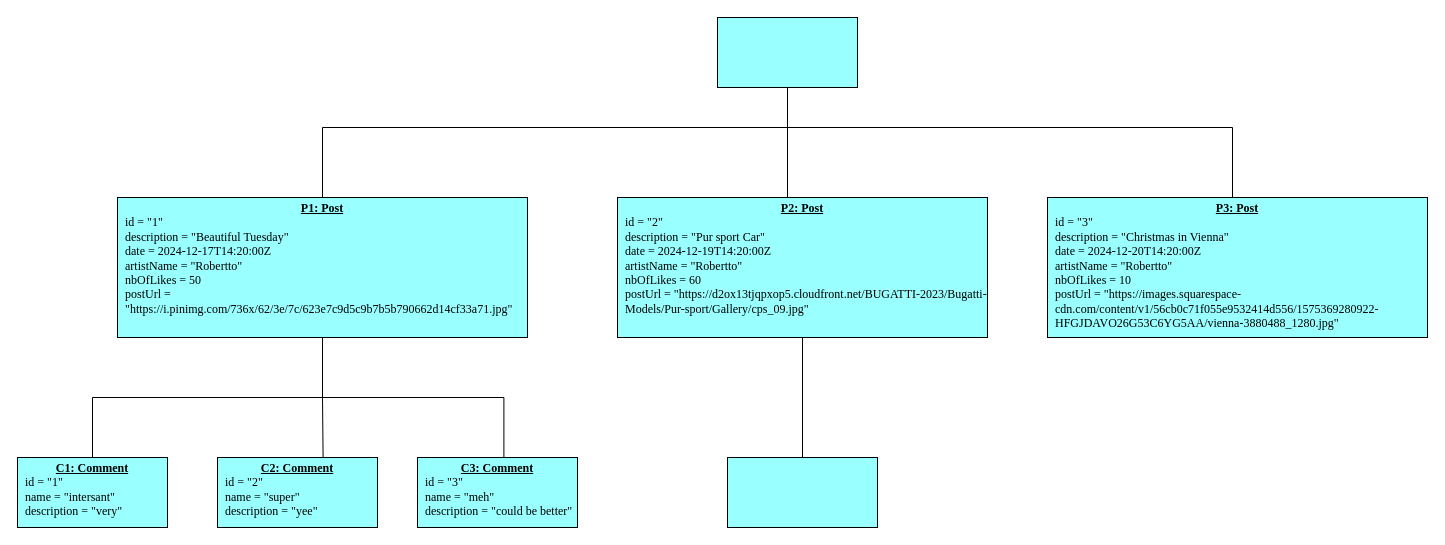
Image size: 1445x545. Some labels were removed from this diagram. Here are the shapes that lost their labels. From the top down, the centre of each, then its label:
pixel 787 52: User1: User nickname = "Robertto" isArtist = true
pixel 802 492: C1: Comment id = "1" name = "i disagree" description = "not good"
